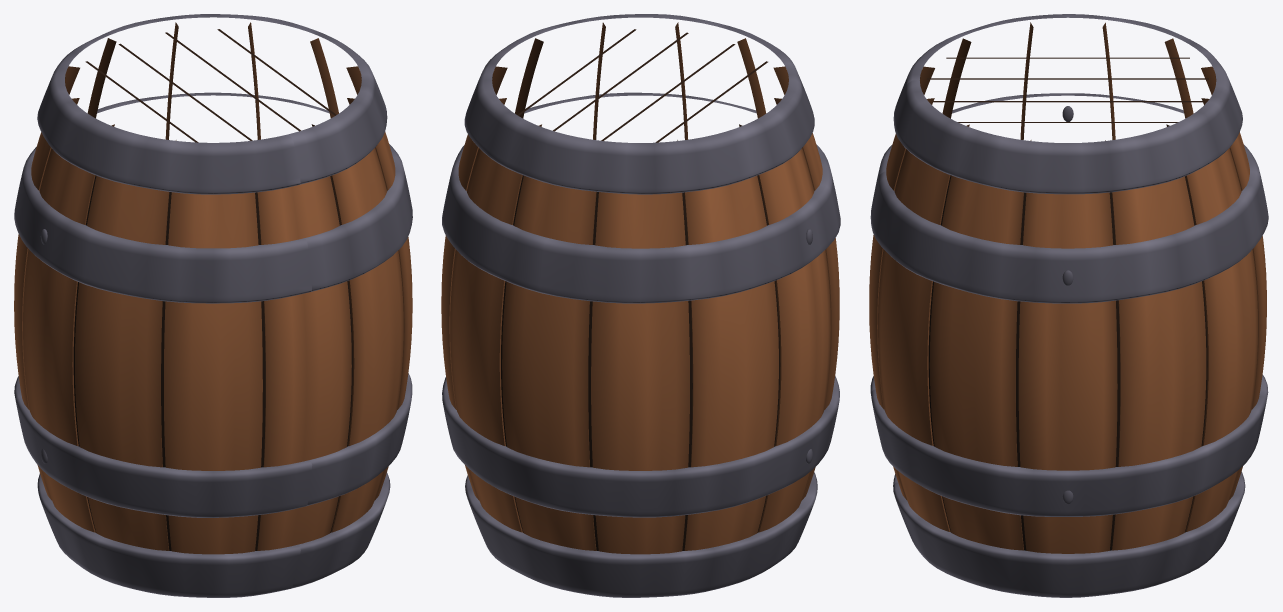
File: 10-barrel.glb
The picture shows the model from 3 angles, left to right: view 1: azimuth 30°, elevation 25°; view 2: azimuth 150°, elevation 25°; view 3: azimuth 270°, elevation 25°; orthographic projection.
Parts seen in each view (by area): view 1: Staves, Hoops, Barrel; view 2: Staves, Hoops, Barrel; view 3: Staves, Hoops, Barrel.
Boxes of the visible parts, bbox=[...] form: Staves: bbox=[14, 22, 412, 554]; Hoops: bbox=[14, 14, 412, 597]; Barrel: bbox=[40, 29, 361, 550]; Staves: bbox=[441, 22, 839, 554]; Hoops: bbox=[442, 14, 840, 597]; Barrel: bbox=[492, 29, 812, 550]; Staves: bbox=[869, 22, 1266, 553]; Hoops: bbox=[870, 14, 1268, 597]; Barrel: bbox=[920, 57, 1208, 550].
Size of the model in its own units: 0.8901 by 1.12 by 0.8935.
